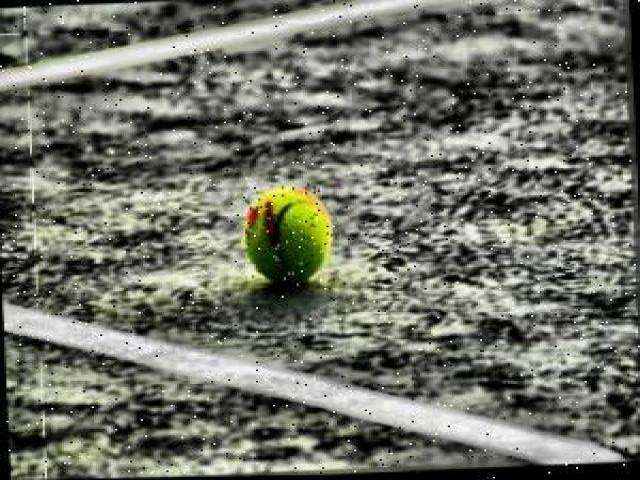tennis-ball: (243, 184, 331, 286)
